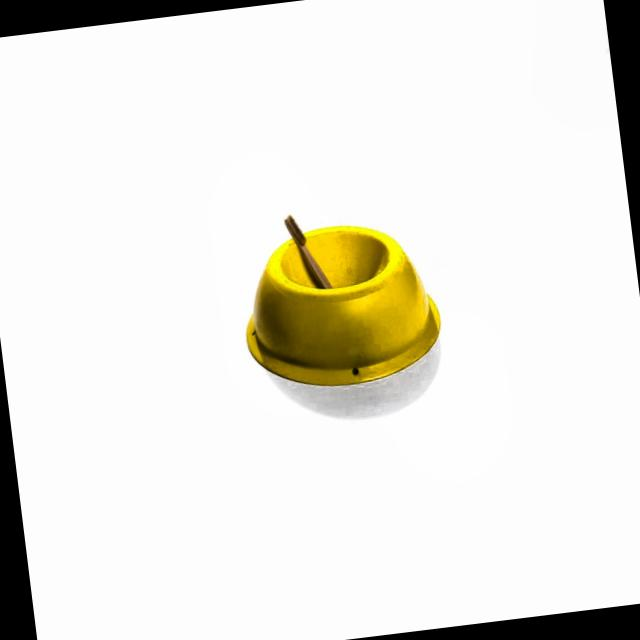Hold: (227, 206, 446, 402)
